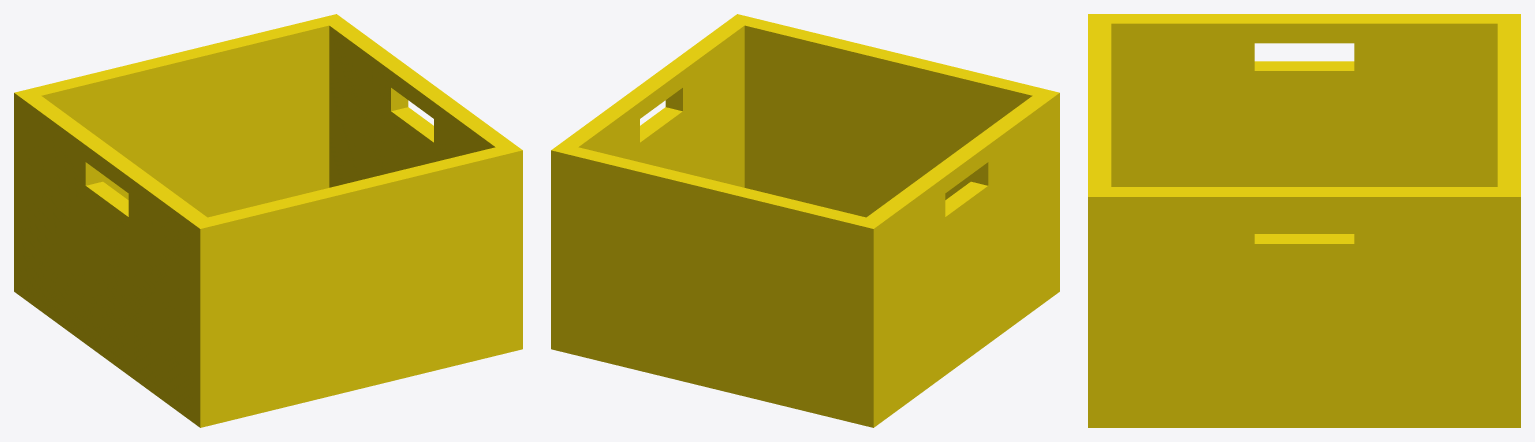
3 views of the same model, side by side, from view 1: azimuth 30°, elevation 25°; view 2: azimuth 150°, elevation 25°; view 3: azimuth 270°, elevation 25° (orthographic). The views are drawn at different scales.
Parts seen in each view (by area): view 1: Box_2; view 2: Box_2; view 3: Box_2.
Boxes of the visible parts, bbox=[...] form: Box_2: bbox=[14, 14, 522, 427]; Box_2: bbox=[551, 14, 1059, 427]; Box_2: bbox=[1088, 14, 1520, 427].
Size of the model in its own units: 0.7418 by 0.4371 by 0.7418.
1 material, 1 textured.
